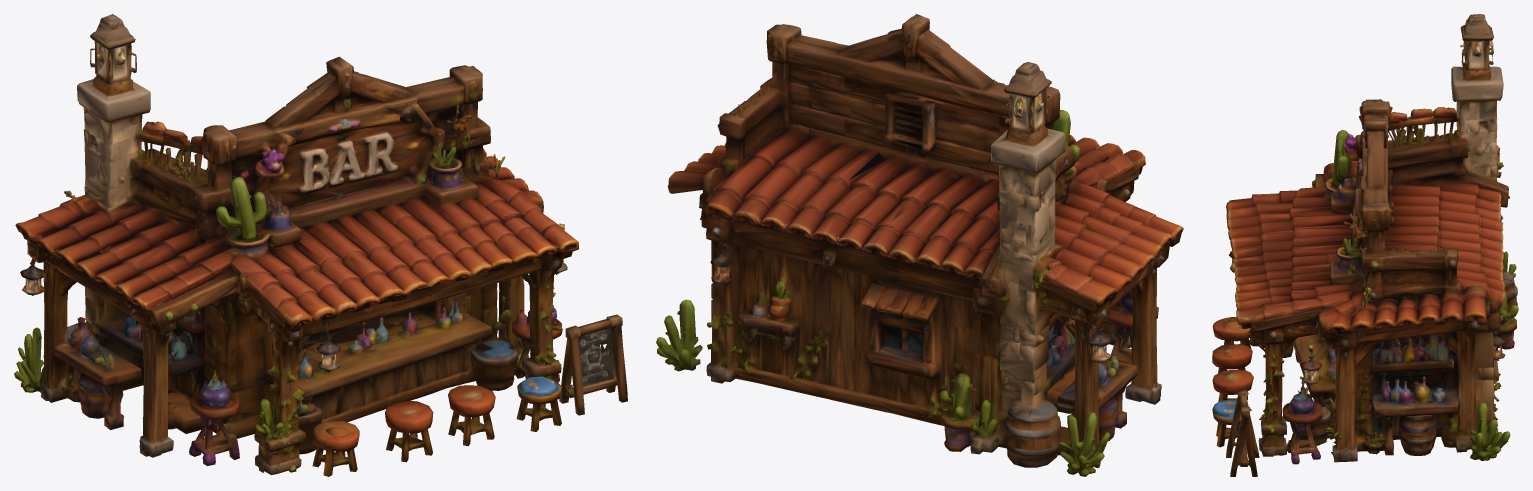
The model's file is fachada_de_bar.glb.
The picture shows the model from 3 angles, left to right: view 1: azimuth 30°, elevation 25°; view 2: azimuth 150°, elevation 25°; view 3: azimuth 270°, elevation 25°; orthographic projection. The views are drawn at different scales.
Parts seen in each view (by area): view 1: fachada_de_bar; view 2: fachada_de_bar; view 3: fachada_de_bar.
Boxes of the visible parts, x1,y1,x2,y2 form: fachada_de_bar: (14, 14, 627, 476); fachada_de_bar: (656, 14, 1183, 476); fachada_de_bar: (1212, 14, 1518, 476).
Size of what is drawn, in the model's own units: 6.46 by 4.99 by 4.45.
Materials: 1 (1 with a texture image).
